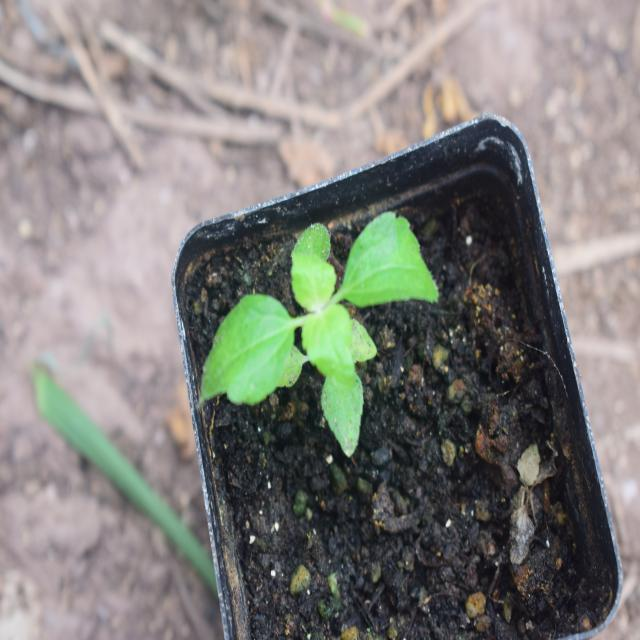billygoat_weed: (191, 194, 435, 466)
